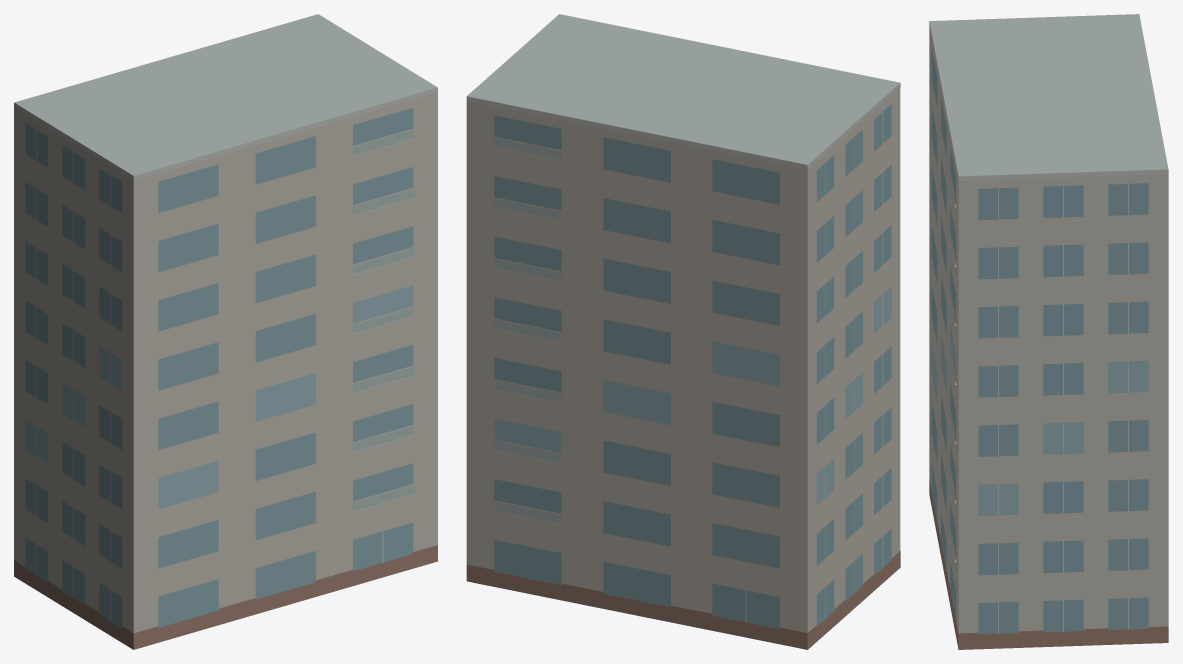
Rendered from survey-upis-33040821.glb.
The picture shows the model from 3 angles, left to right: view 1: azimuth 30°, elevation 25°; view 2: azimuth 150°, elevation 25°; view 3: azimuth 270°, elevation 25°; orthographic projection. The views are drawn at different scales.
Parts seen in each view (by area): view 1: survey-upis-33040821.tmp; view 2: survey-upis-33040821.tmp; view 3: survey-upis-33040821.tmp.
Boxes of the visible parts, x1,y1,x2,y2 form: survey-upis-33040821.tmp: [14, 14, 437, 649]; survey-upis-33040821.tmp: [466, 14, 900, 649]; survey-upis-33040821.tmp: [929, 14, 1168, 649].
Bounding box in the file's own units: 17.96 × 24.4 × 11.18.
